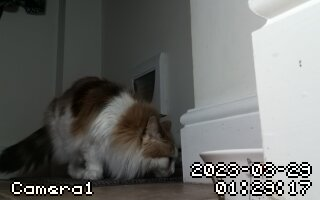clara: (31, 79, 176, 195)
